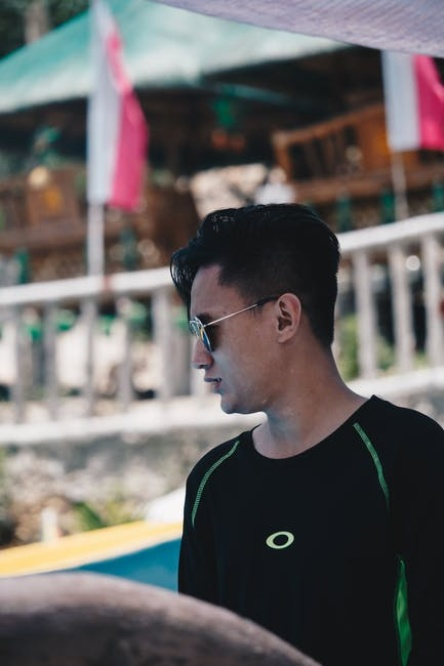face: (191, 267, 276, 409)
